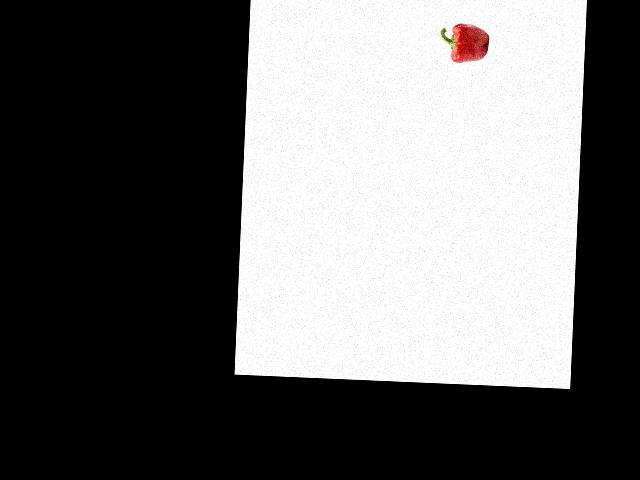bell_pepper: (437, 19, 491, 66)
